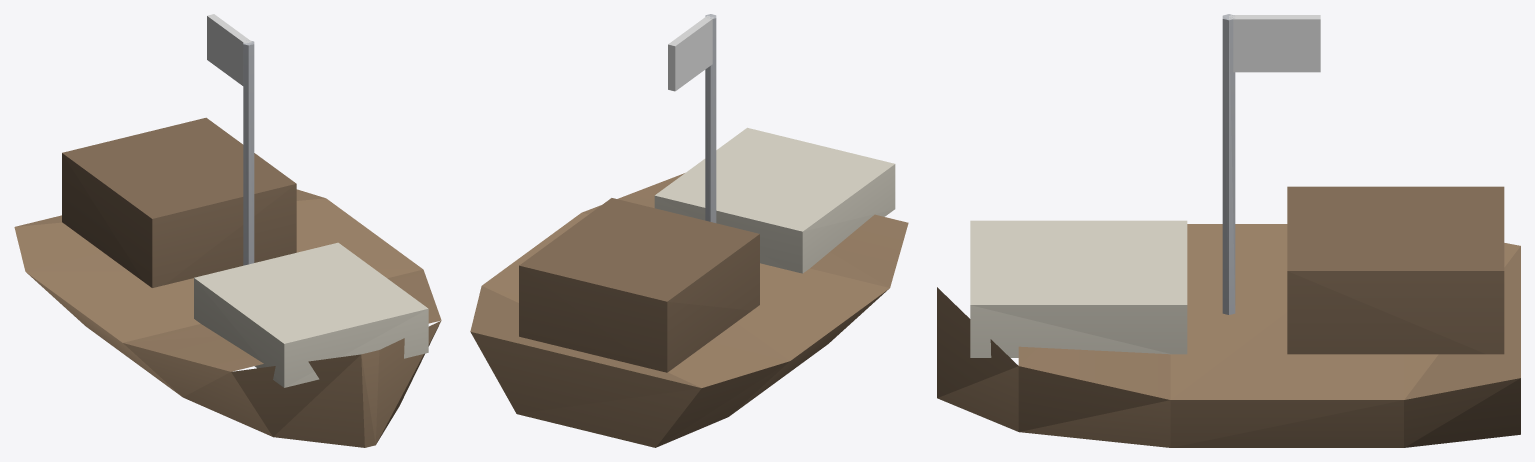
The model's file is Work Boats.glb.
3 renders of one model, left to right at view 1: azimuth 30°, elevation 25°; view 2: azimuth 150°, elevation 25°; view 3: azimuth 270°, elevation 25°, orthographic. The views are drawn at different scales.
Visible parts, largest first — view 1: Body; view 2: Body; view 3: Body.
Boxes of the visible parts, <box> form: Body: <box>14,14,441,447</box>; Body: <box>470,14,908,447</box>; Body: <box>937,14,1520,447</box>.
Bounding box in the file's own units: 0.5 × 0.5 × 0.7.
